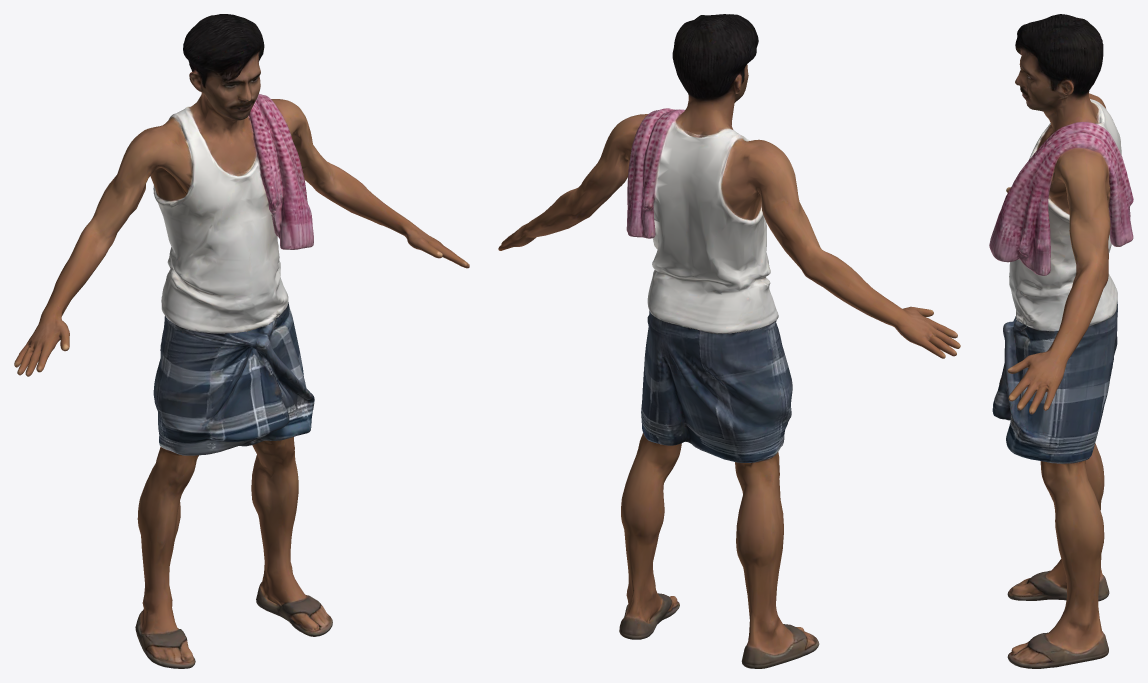
Rendered from npc-labourer.glb.
3 views of the same model, side by side, from view 1: azimuth 30°, elevation 25°; view 2: azimuth 150°, elevation 25°; view 3: azimuth 270°, elevation 25° (orthographic). The views are drawn at different scales.
Visible parts, largest first — view 1: SK_NPC_Labourer; view 2: SK_NPC_Labourer; view 3: SK_NPC_Labourer.
Boxes of the visible parts, x1=… form: SK_NPC_Labourer: x1=14, y1=14, x2=469, y2=668; SK_NPC_Labourer: x1=498, y1=14, x2=960, y2=668; SK_NPC_Labourer: x1=989, y1=14, x2=1133, y2=668.
Size of the model in its own units: 144 by 189 by 40.46.
1 material, 1 textured.
